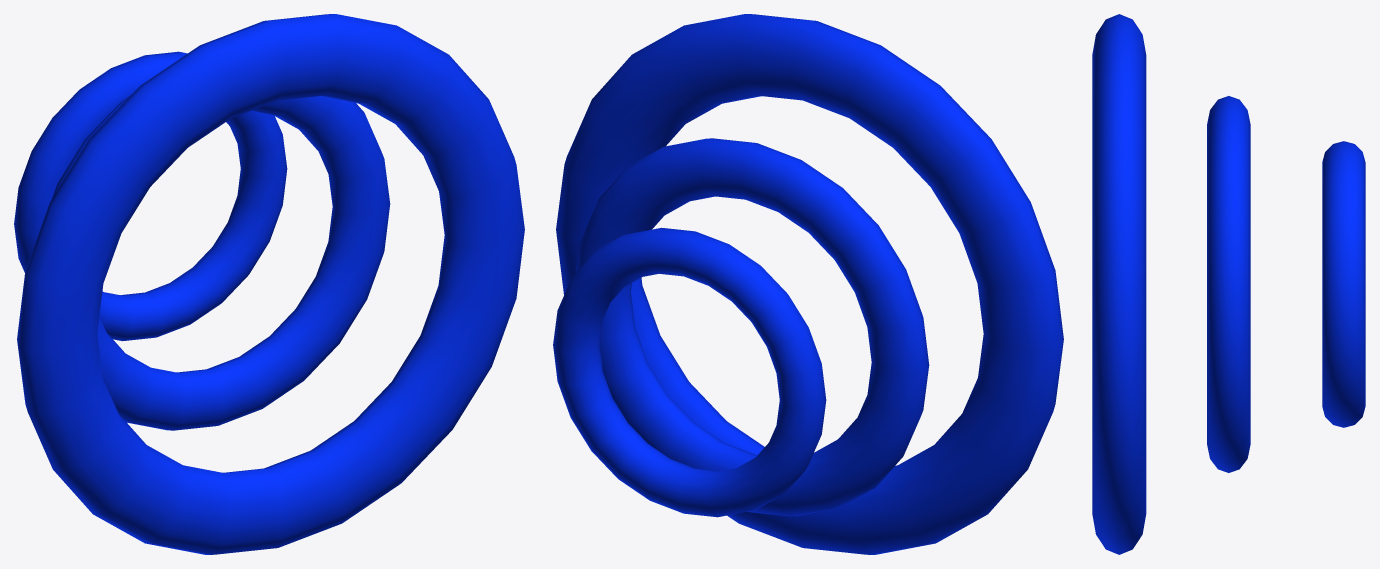
The model's file is BeatWave.fbx.
3 views of the same model, side by side, from view 1: azimuth 30°, elevation 25°; view 2: azimuth 150°, elevation 25°; view 3: azimuth 270°, elevation 25° (orthographic). The views are drawn at different scales.
Visible parts, largest first — view 1: Torus001; view 2: Torus001; view 3: Torus001.
Part boxes in pixels (x1,y1,x2,y2): Torus001: (14,14,524,554); Torus001: (553,14,1063,554); Torus001: (1092,14,1365,554).
Bounding box in the file's own units: 19.12 × 19.12 × 9.62.
